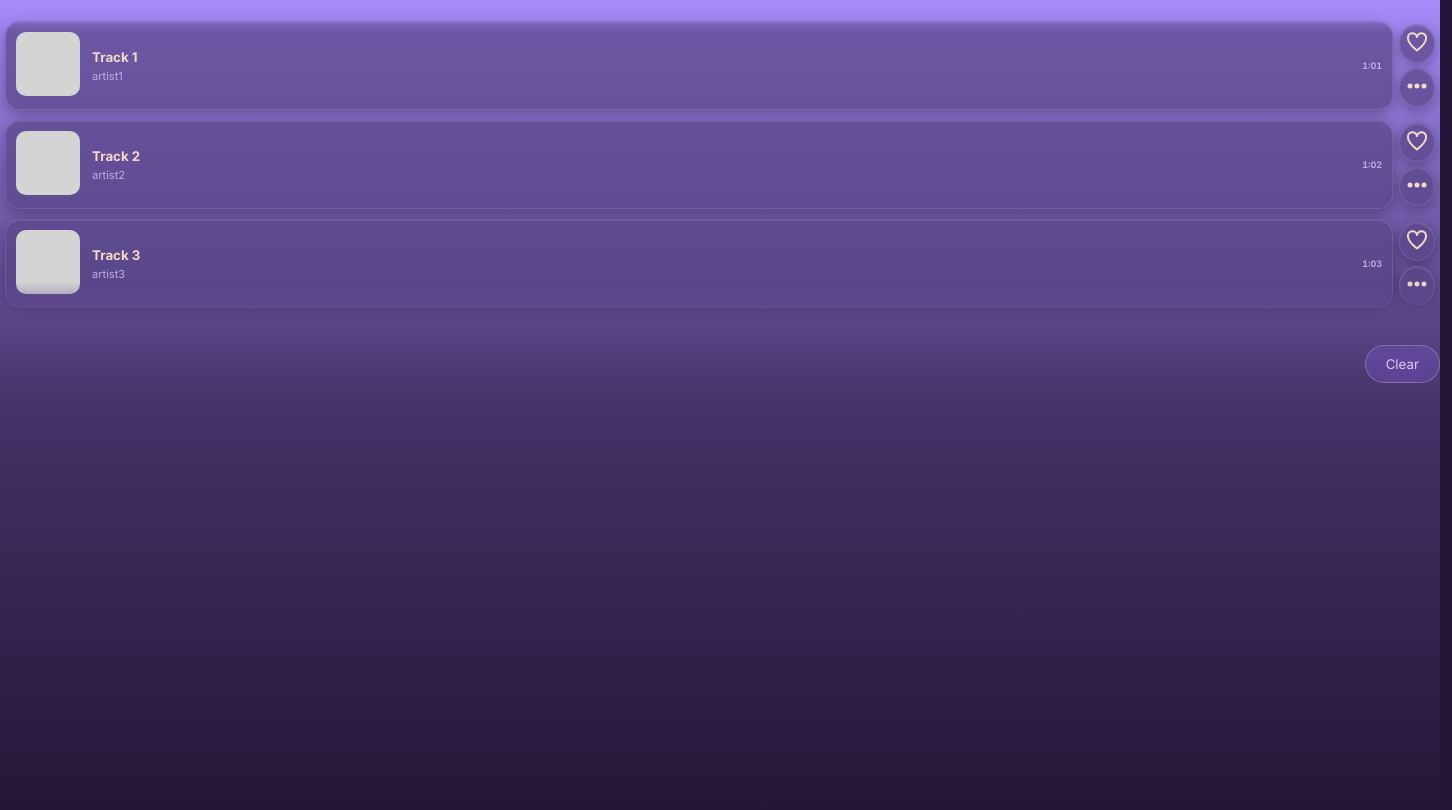
Scenario: RecentsList › Clear button › empties the list and shows a snackbar
Click the button "Clear": (1402, 364) [1365,345,1440,383]
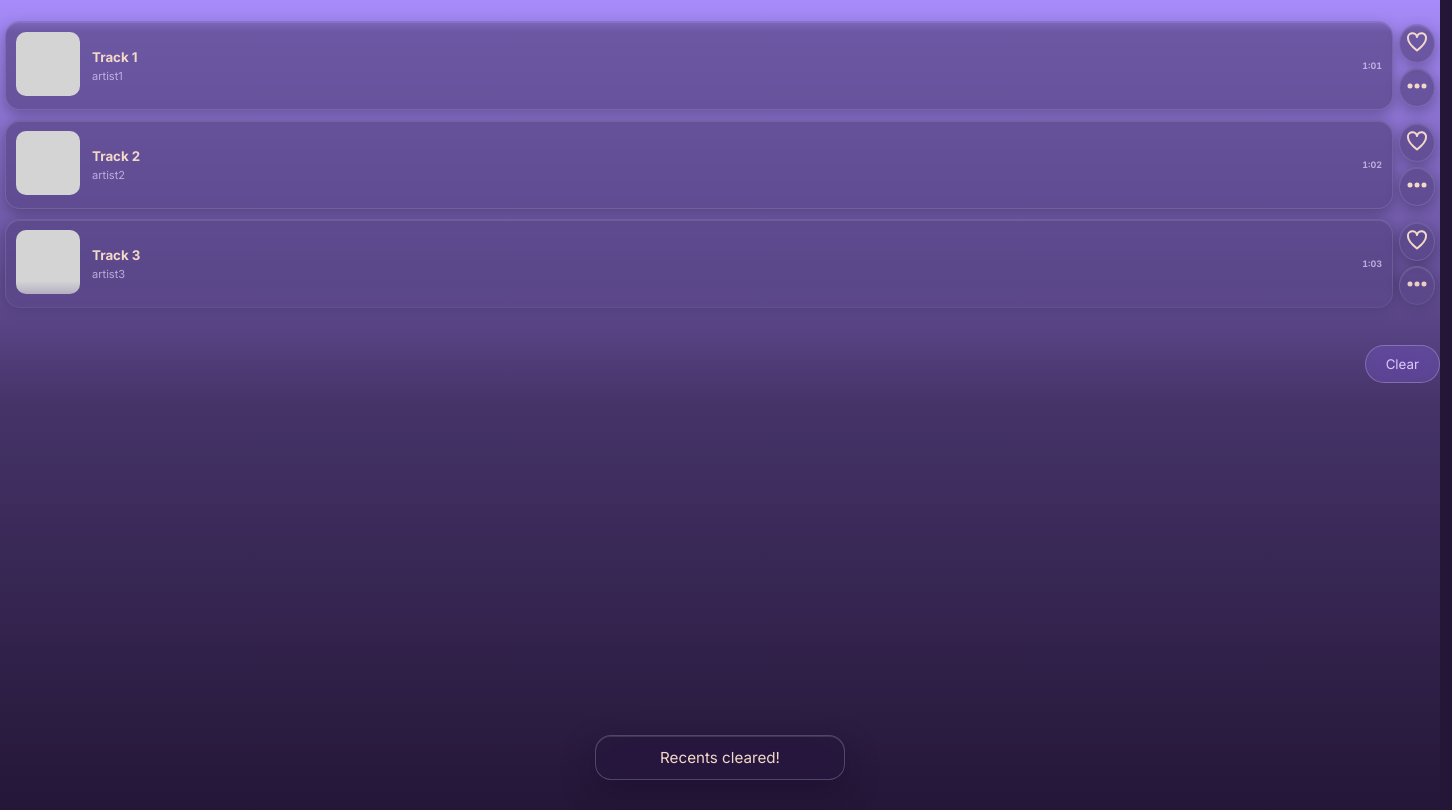
expect the text with id "snackbar" reads "Recents cleared!": met, box [660,748,780,767]
